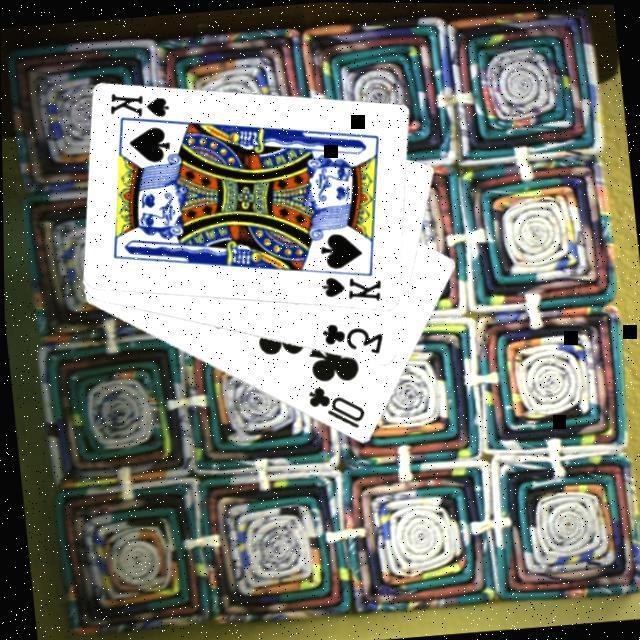10C: (300, 380, 367, 436)
3C: (314, 316, 384, 362)
KS: (104, 86, 176, 132), (315, 270, 384, 310)
